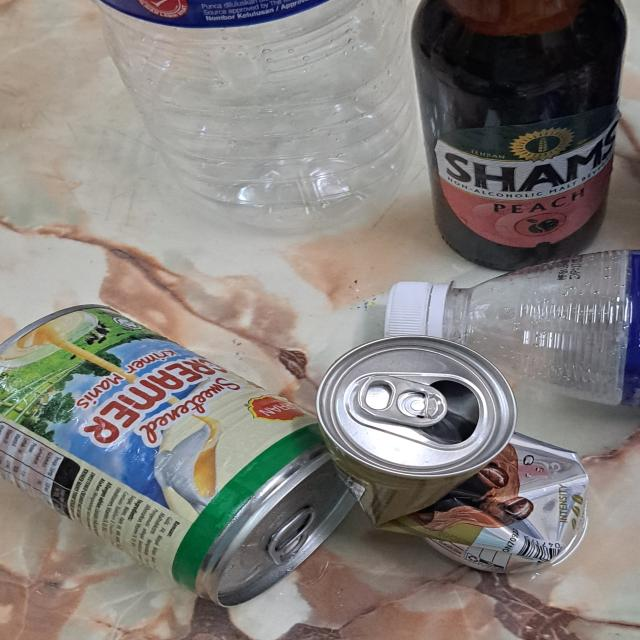can: (0, 302, 361, 609), (314, 337, 590, 572)
glass bottle: (415, 0, 640, 271)
plastic bottle: (83, 0, 414, 235), (443, 248, 640, 412)
plastic bottle cap: (384, 282, 444, 339)
pop tab: (360, 374, 448, 426), (270, 506, 316, 564)
